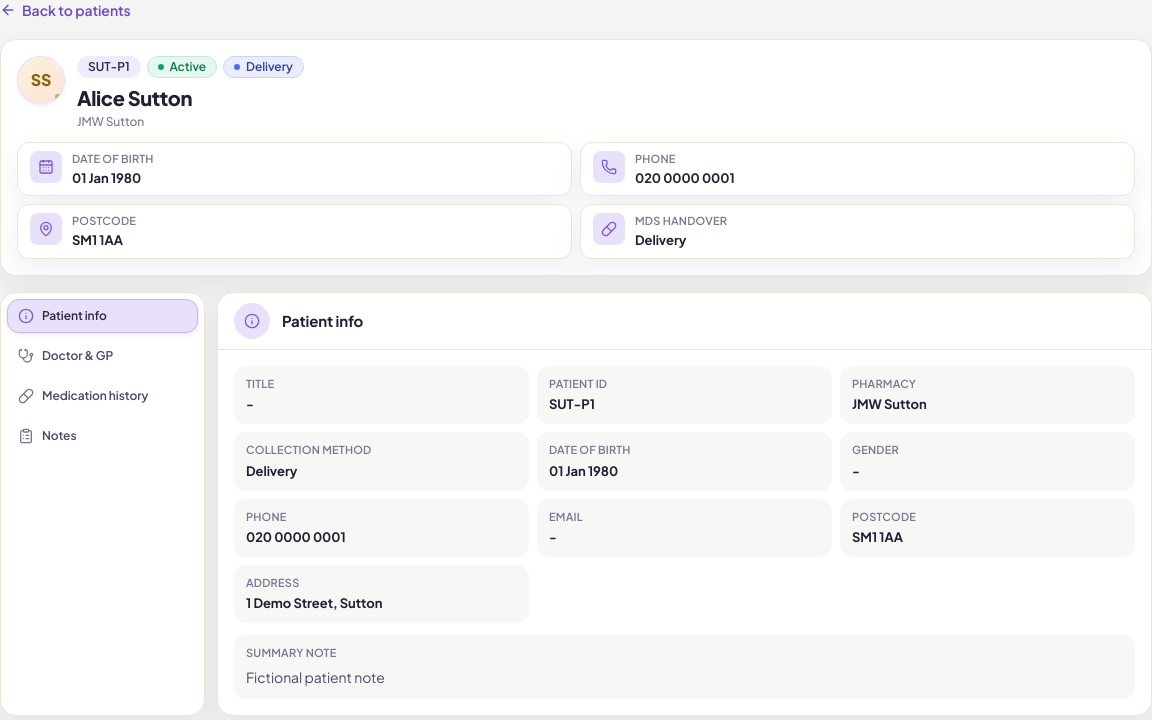
Test: PatientDetailScreen › renders doctor and GP tab content
The width and height of the screenshot is (1152, 720).
Check: the heading "Alice Sutton" is shown, box [77,85,192,110]
Click the button "Doctor & GP" at x=102, y=356, box [7,339,198,373]
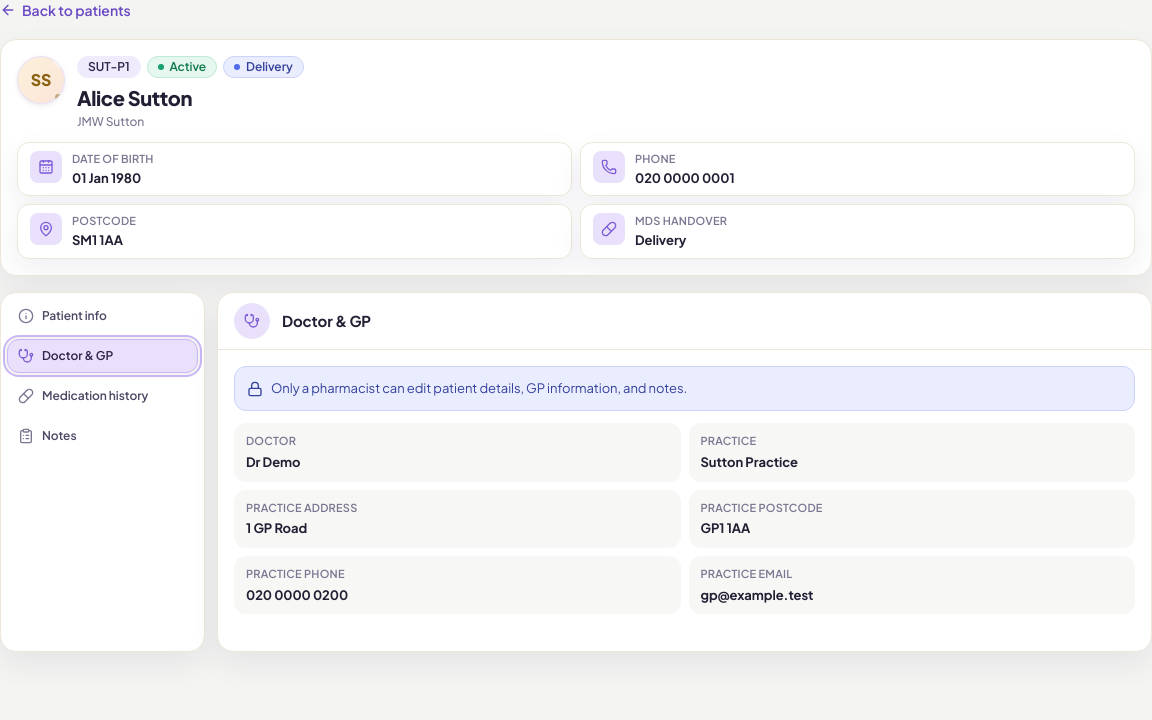
Check: the heading "Doctor & GP" is shown, box [282,310,371,332]
Check: the text "Dr Demo" is shown, box [246,454,300,470]
Check: the text "Sutton Practice" is shown, box [700,454,798,470]
